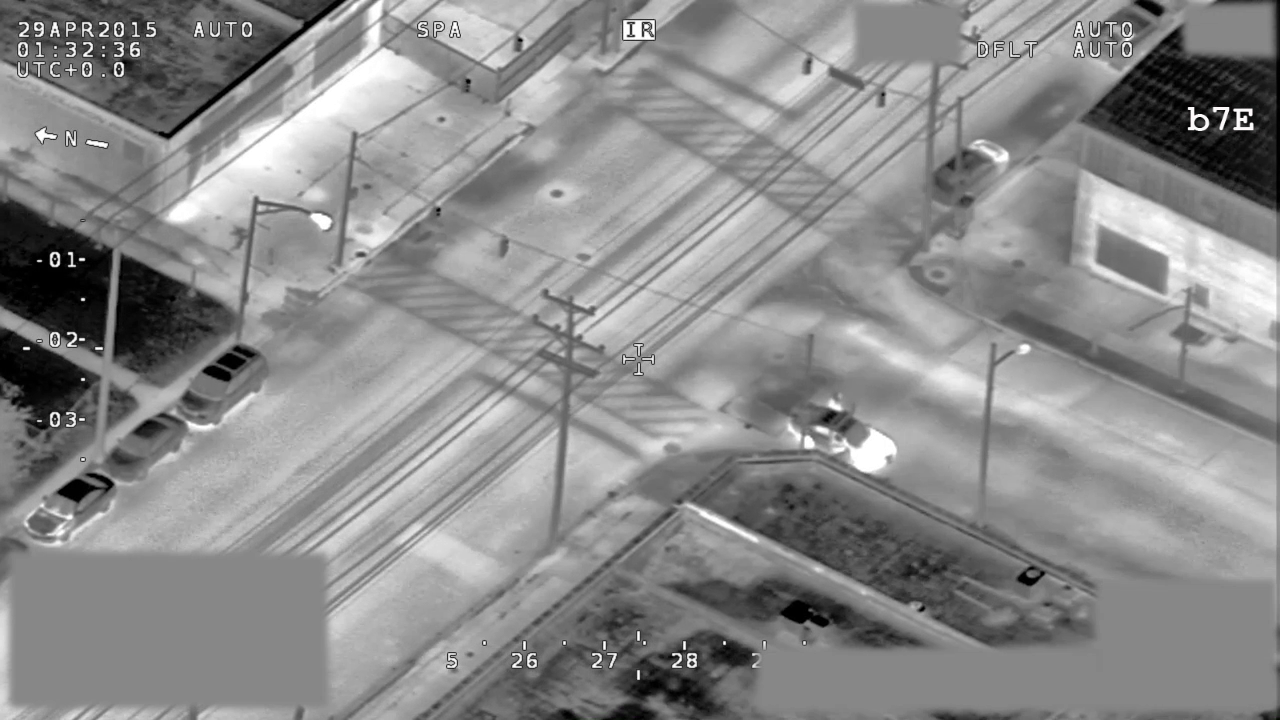vehicle: (788, 390, 897, 478), (177, 341, 273, 428), (21, 469, 121, 545), (100, 413, 192, 489), (927, 138, 1011, 208)
